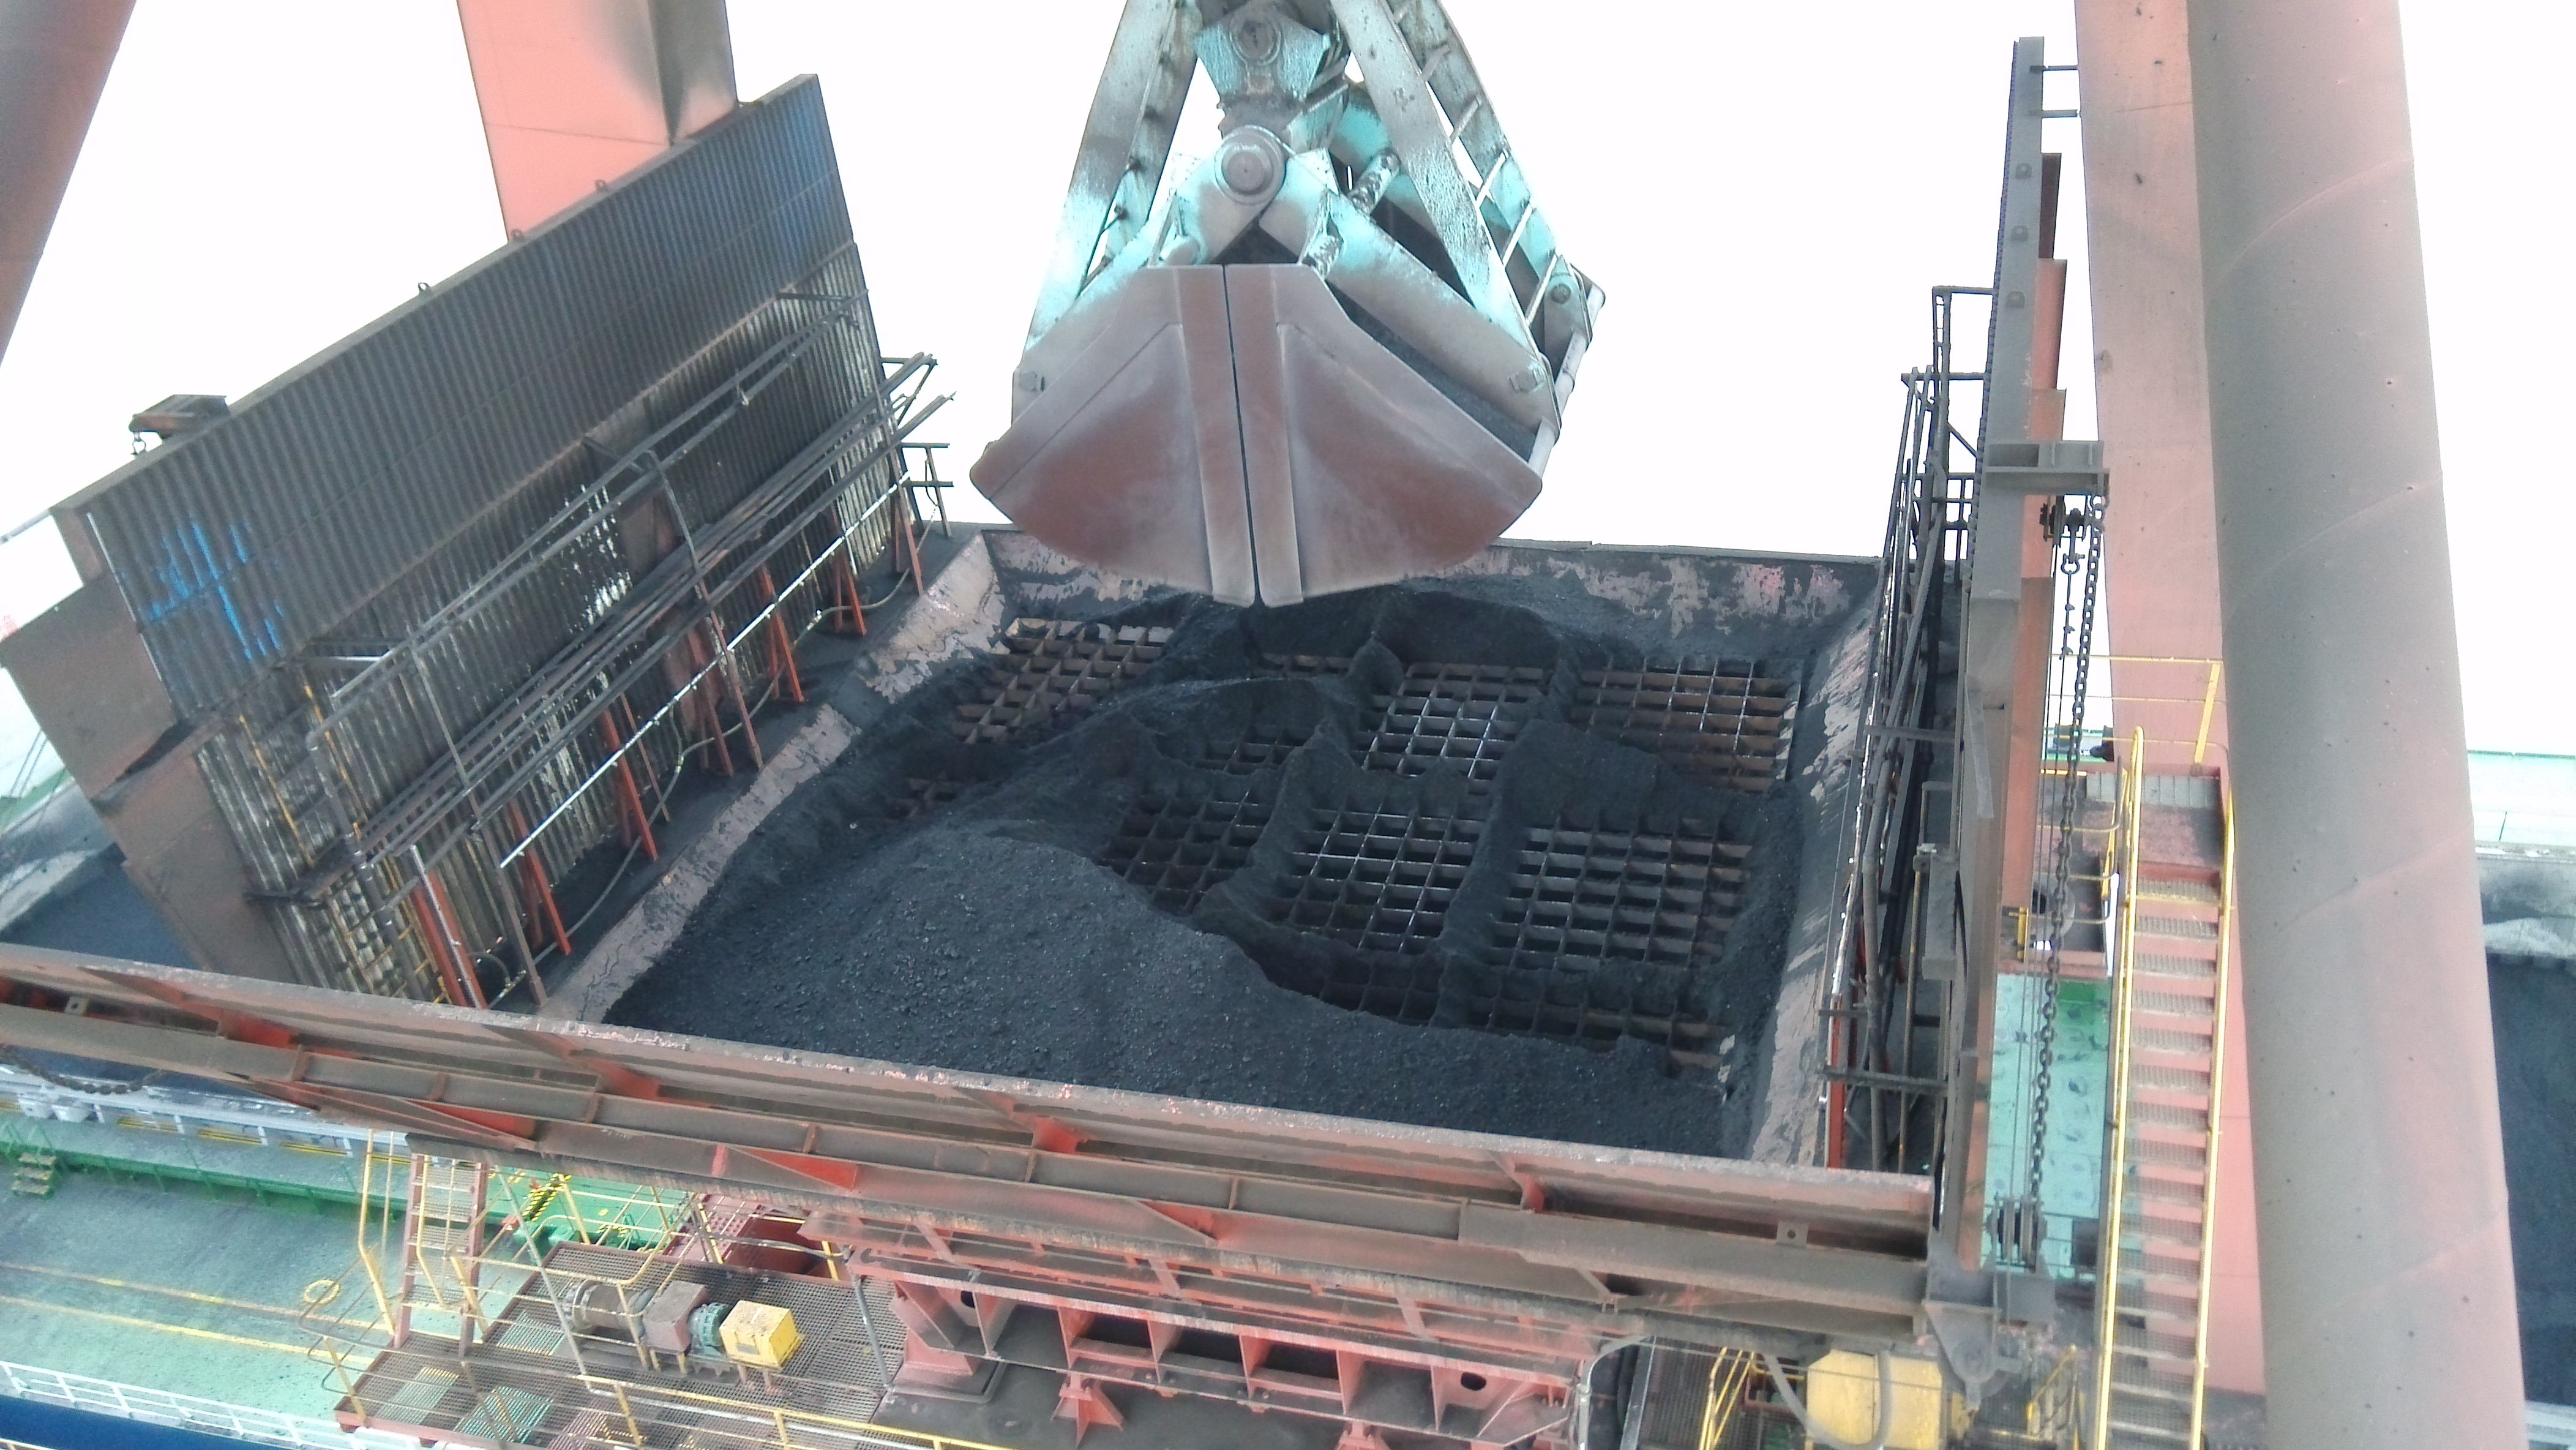grab: (966, 7, 1612, 598)
